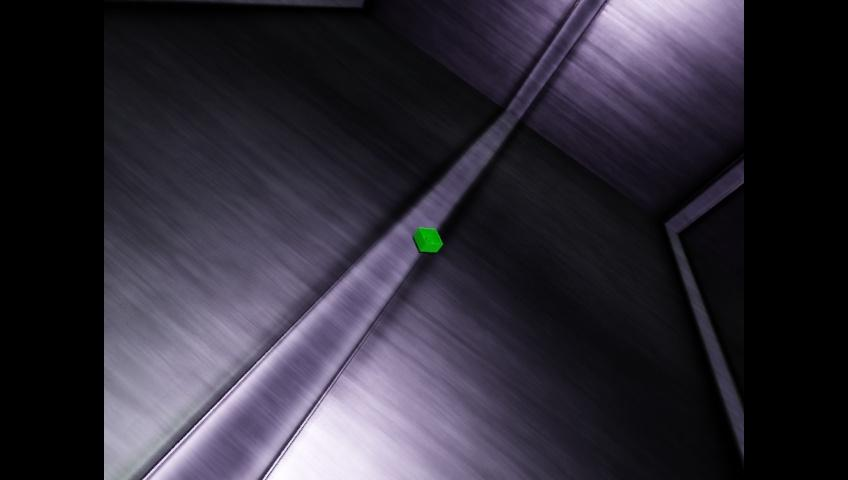2x2_green: (413, 227, 441, 251)
